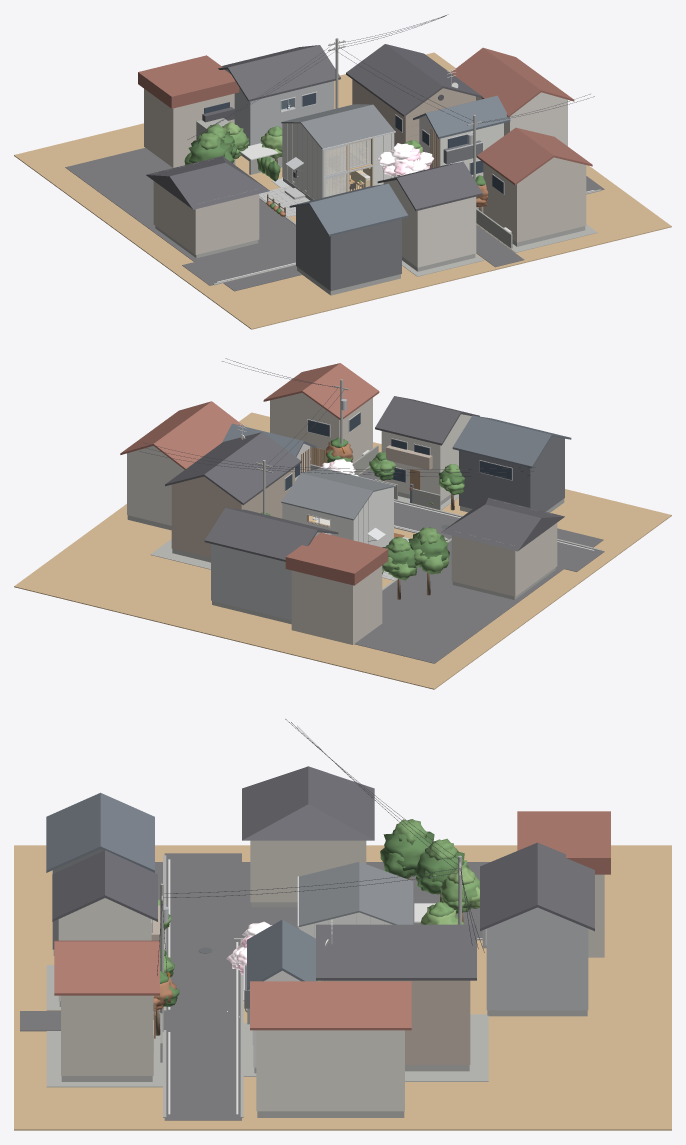
File: 9_tsubo_house.glb
The picture shows the model from 3 angles, top to bottom: view 1: azimuth 30°, elevation 25°; view 2: azimuth 150°, elevation 25°; view 3: azimuth 270°, elevation 25°; orthographic projection. The views are drawn at different scales.
Parts seen in each view (by area): view 1: Ctx_Site_Sandy_Ground, Ctx_Road_LeftAsphalt, Ctx_South_House2_Body, Ctx_South_House3_Body, Ctx_House_Left_Body, Ctx_House_Right_Roof, Ctx_South_House1_Body, Ctx_House_RearCenter_Roof, Ctx_SE_House2_Roof, Ctx_House_Left_Roof, Ctx_House_RearLeft_Roof, Ctx_House_RearLeft_Body (+22 smaller); view 2: Ctx_Site_Sandy_Ground, Ctx_Road_LeftAsphalt, Ctx_House_RearLeft_Body, Ctx_House_Left_Body, Ctx_South_House3_Body, Ctx_House_Right_Roof, Ctx_House_RearCenter_Body, Ctx_House_Right_Body, Ctx_House_RearCenter_Roof, Ctx_South_House2_Body, Ctx_SE_House2_Roof, Ctx_House_Left_Roof (+13 smaller); view 3: Ctx_Site_Sandy_Ground, Ctx_Road_SouthMain, Ctx_SE_House2_Body, Ctx_House_Right_Roof, Ctx_House_RearCenter_Body, Ctx_House_Left_Roof, Ctx_Road_LeftAsphalt, Ctx_SE_House2_Roof, Ctx_South_House2_Body, Ctx_House_RearCenter_Roof, Ctx_South_House3_Roof, Ctx_South_House2_Roof (+17 smaller).
Boxes of the visible parts, x1,y1,x2,y2 form: Ctx_Site_Sandy_Ground: [14, 52, 671, 329]; Ctx_Road_LeftAsphalt: [65, 147, 302, 291]; Ctx_South_House2_Body: [483, 157, 586, 242]; Ctx_South_House3_Body: [296, 205, 401, 291]; Ctx_House_Left_Body: [153, 181, 259, 254]; Ctx_House_Right_Roof: [346, 44, 482, 116]; Ctx_South_House1_Body: [384, 180, 476, 267]; Ctx_House_RearCenter_Roof: [218, 45, 340, 101]; Ctx_SE_House2_Roof: [450, 47, 574, 117]; Ctx_House_Left_Roof: [146, 156, 269, 209]; Ctx_House_RearLeft_Roof: [138, 55, 239, 108]; Ctx_House_RearLeft_Body: [144, 89, 234, 167]; Ctx_Site_Sandy_Ground: [14, 412, 671, 689]; Ctx_Road_LeftAsphalt: [354, 528, 603, 663]; Ctx_House_RearLeft_Body: [291, 566, 382, 644]; Ctx_House_Left_Body: [451, 523, 557, 596]; Ctx_South_House3_Body: [459, 436, 564, 511]; Ctx_House_Right_Roof: [165, 432, 301, 505]; Ctx_House_RearCenter_Body: [211, 532, 319, 619]; Ctx_House_Right_Body: [171, 468, 294, 557]; Ctx_House_RearCenter_Roof: [204, 508, 338, 561]; Ctx_South_House2_Body: [270, 393, 372, 466]; Ctx_SE_House2_Roof: [120, 401, 244, 469]; Ctx_House_Left_Roof: [441, 498, 564, 551]; Ctx_Site_Sandy_Ground: [14, 845, 671, 1130]; Ctx_Road_SouthMain: [164, 853, 241, 1120]; Ctx_SE_House2_Body: [256, 1030, 404, 1111]; Ctx_House_Right_Roof: [316, 924, 476, 980]; Ctx_House_RearCenter_Body: [493, 907, 588, 1010]; Ctx_House_Left_Roof: [242, 766, 374, 840]; Ctx_Road_LeftAsphalt: [155, 862, 489, 938]; Ctx_SE_House2_Roof: [250, 981, 411, 1030]; Ctx_South_House2_Body: [61, 995, 153, 1075]; Ctx_House_RearCenter_Roof: [480, 842, 594, 931]; Ctx_South_House3_Roof: [46, 792, 154, 872]; Ctx_South_House2_Roof: [54, 940, 159, 995].
Size of what is drawn, in the model's own units: 33 by 8.48 by 32.3.
